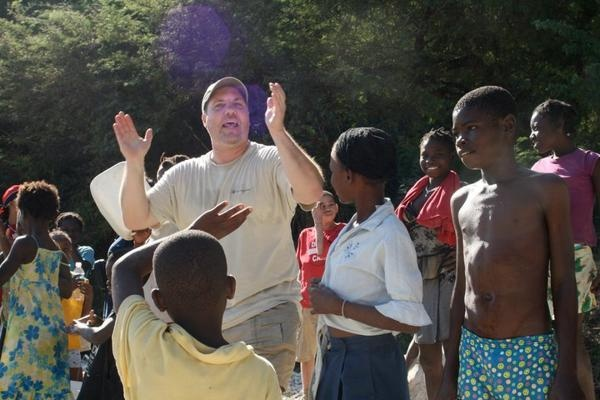person without safety: (105, 225, 280, 400), (447, 77, 547, 359), (316, 124, 414, 367), (160, 69, 285, 225), (1, 172, 80, 399), (521, 91, 600, 217), (393, 117, 461, 239)
